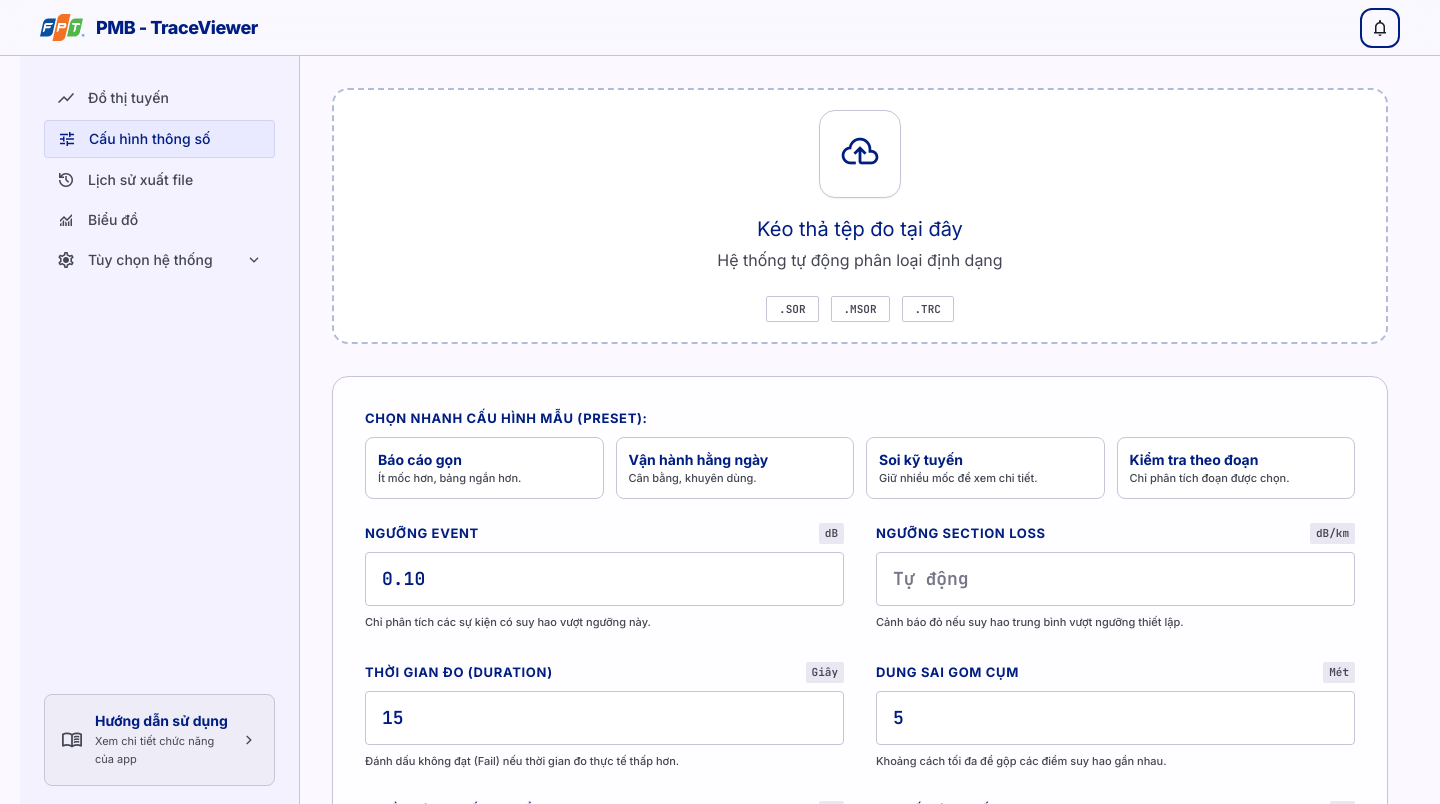
Test: opens the route dashboard and loads the selected region and route
Click the button "Biểu đồ" at (160, 220), box [44,202,275,238]
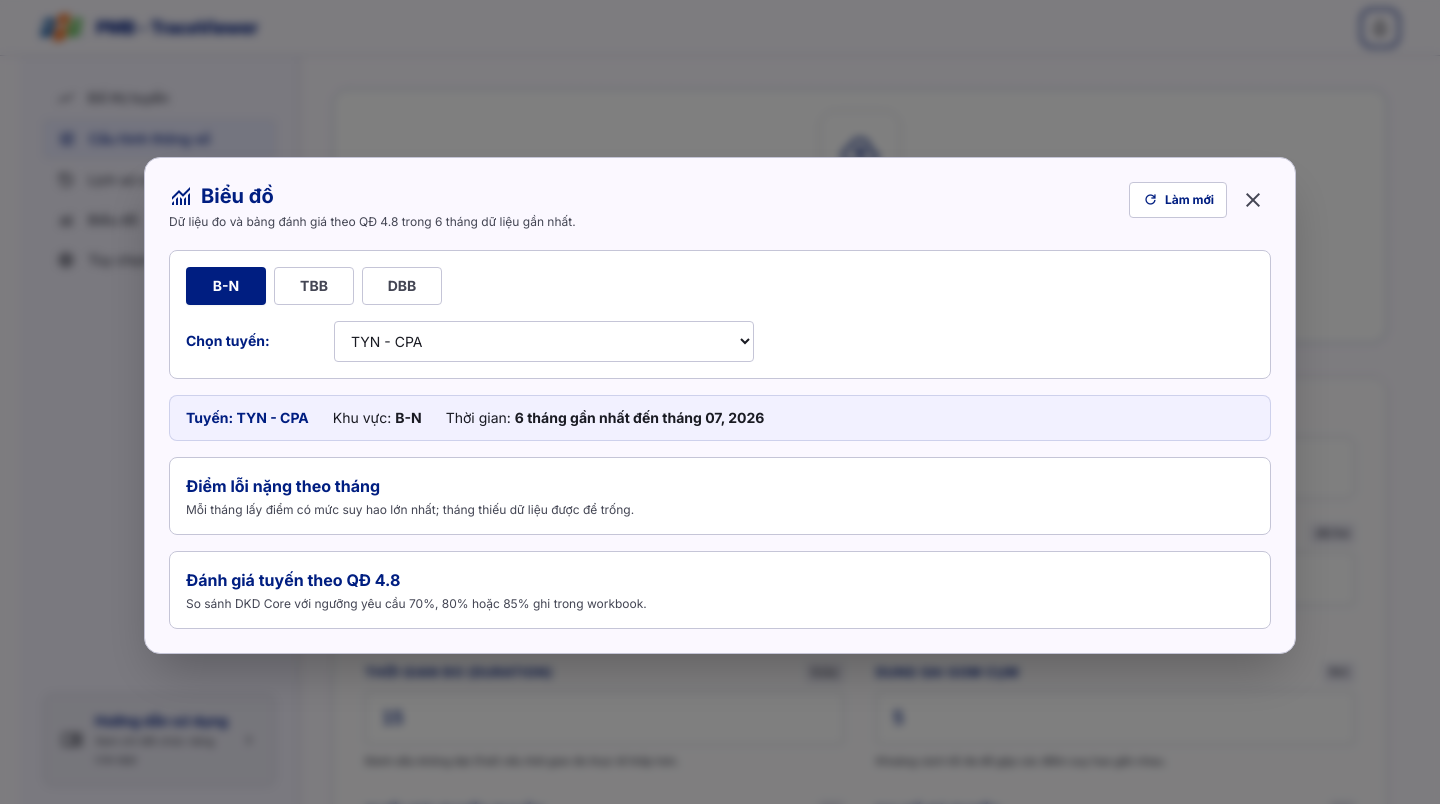
Now the heading "Biểu đồ" is shown, box [169,182,274,210]
Now the dropdown labelled "Chọn tuyến:" shows "TYN - CPA", box [334,320,754,362]
Now the text "Tuyến: TYN - CPA" is shown, box [186,408,309,428]
